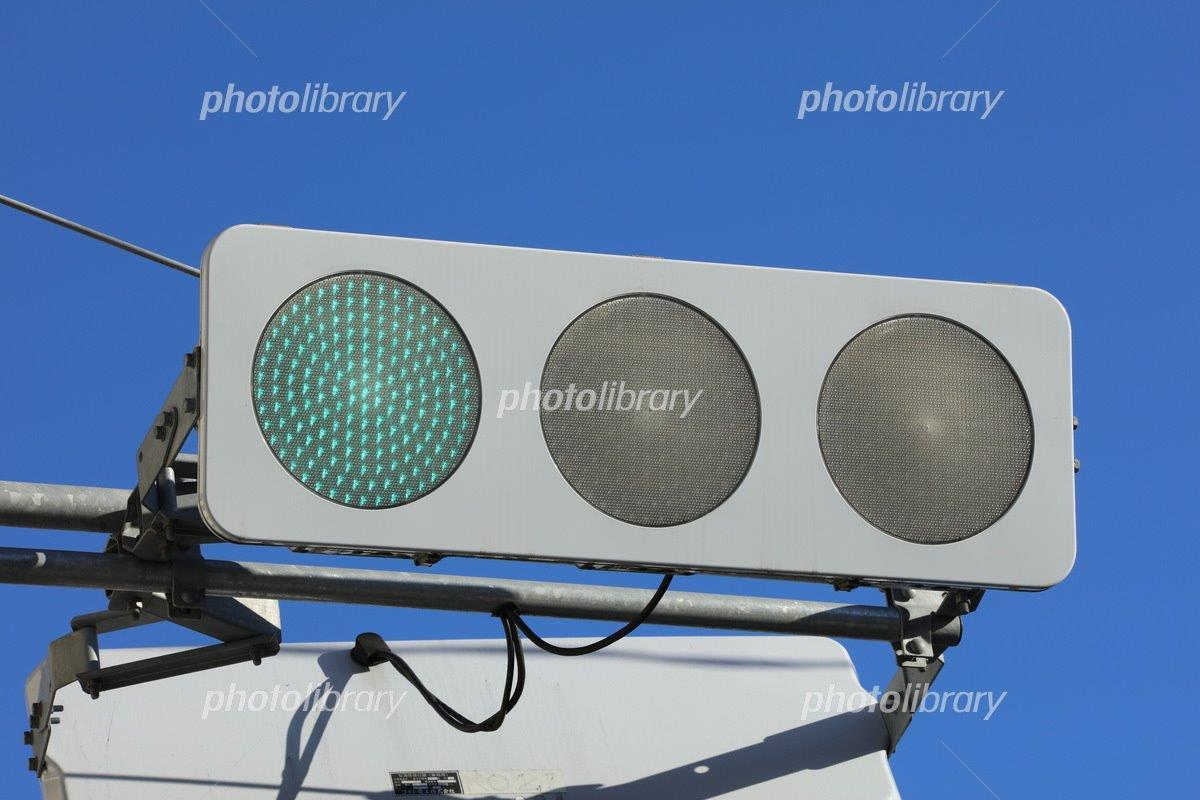cars: (205, 226, 1076, 589)
